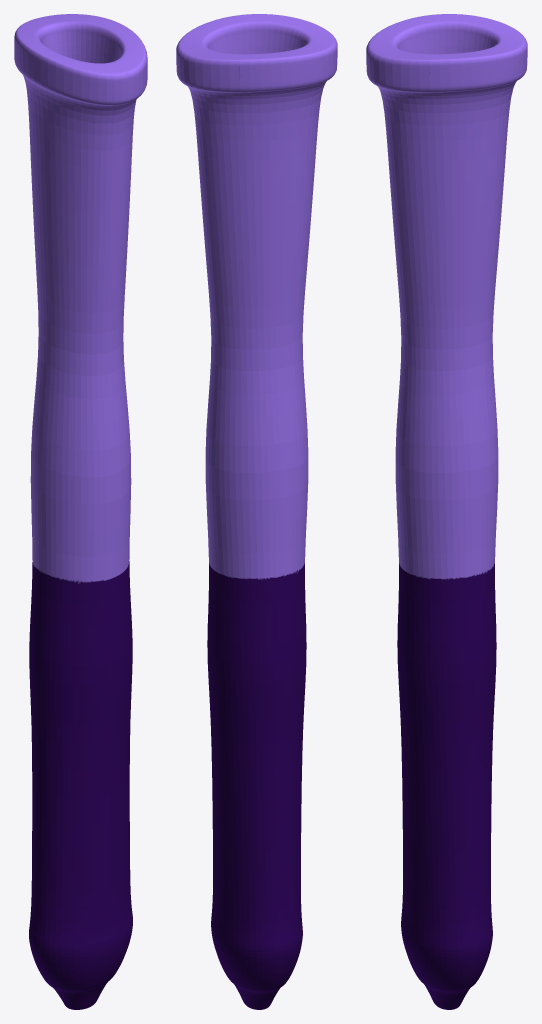
The model's file is Tubo Deforme 6(ESCALADO).fbx.
The picture shows the model from 3 angles, left to right: view 1: azimuth 90°, elevation 25°; view 2: azimuth 150°, elevation 25°; view 3: azimuth 330°, elevation 25°; orthographic projection.
Visible parts, largest first — view 1: Tubo_Deformado_6; view 2: Tubo_Deformado_6; view 3: Tubo_Deformado_6.
Boxes of the visible parts, x1,y1,x2,y2 form: Tubo_Deformado_6: (14,14,147,1009); Tubo_Deformado_6: (176,14,337,1009); Tubo_Deformado_6: (366,14,527,1009).
Size of the model in its own units: 0.0484 by 0.3544 by 0.0444.
